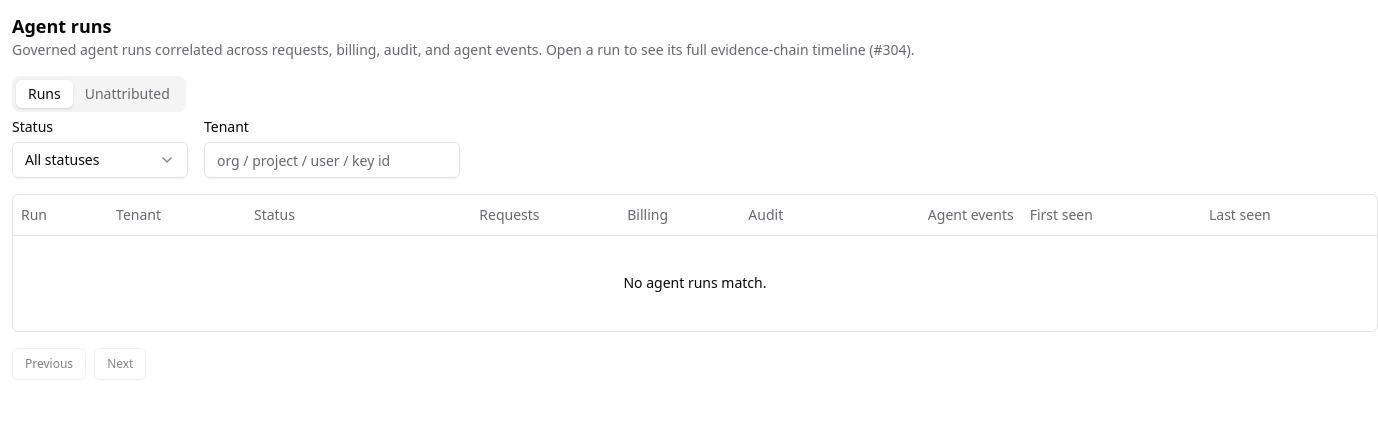
Test: agent-runs unattributed tab copy is localized › renders English tab label, description, and empty state
Click the tab "Unattributed" at (127, 94), box x1=73 y1=80 x2=182 y2=108
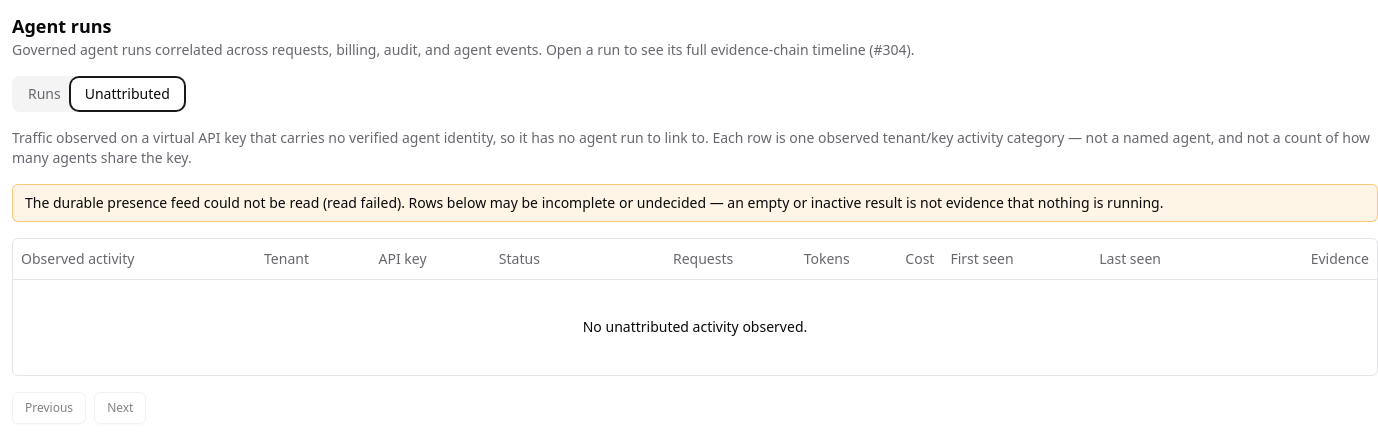
Check: the text "Traffic observed on a virtual API key that carries no verified agent identity, so it has no agent run to link to. Each r" is shown, box x1=12 y1=128 x2=1370 y2=167
Check: the text "No unattributed activity observed." is shown, box x1=13 y1=279 x2=1377 y2=375
